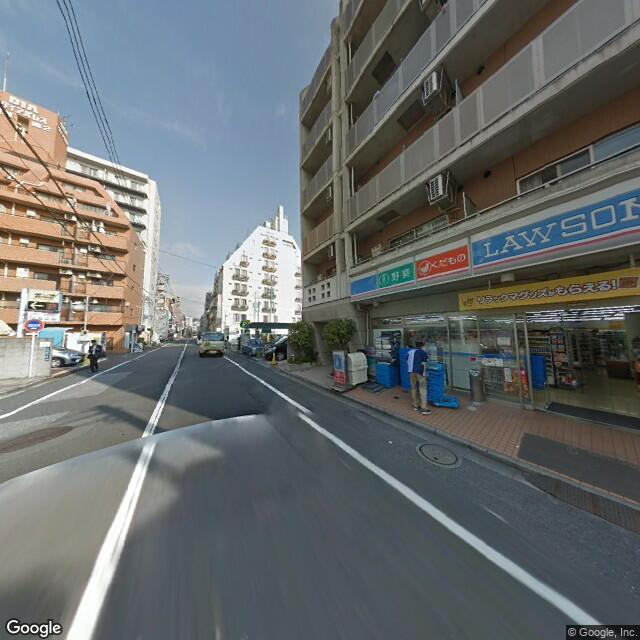lawson: (355, 174, 640, 300)
